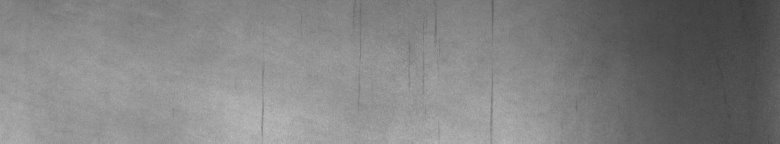ka: (435, 4, 496, 134)
